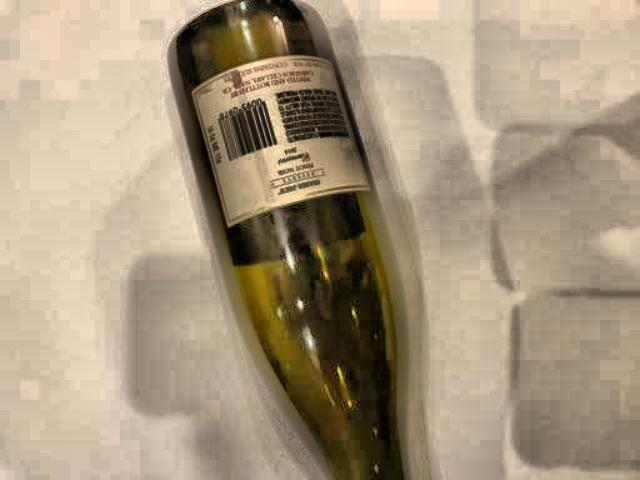Bottles: (145, 0, 450, 480)
